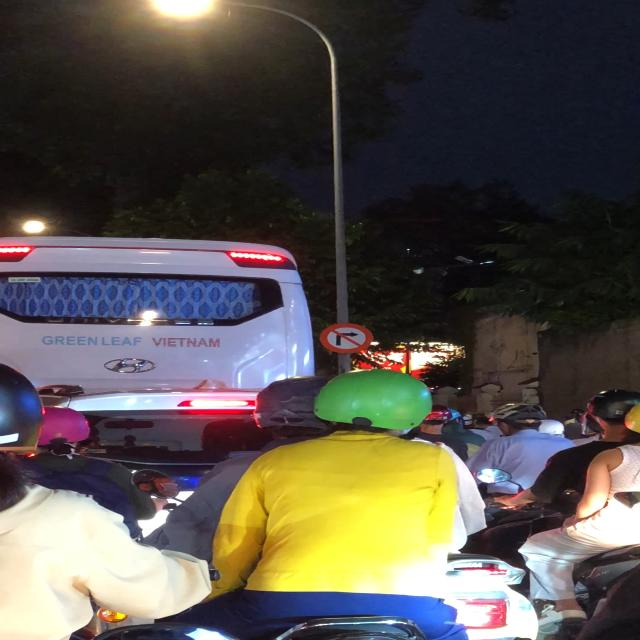Bien bao cam re phai: (313, 319, 382, 359)
